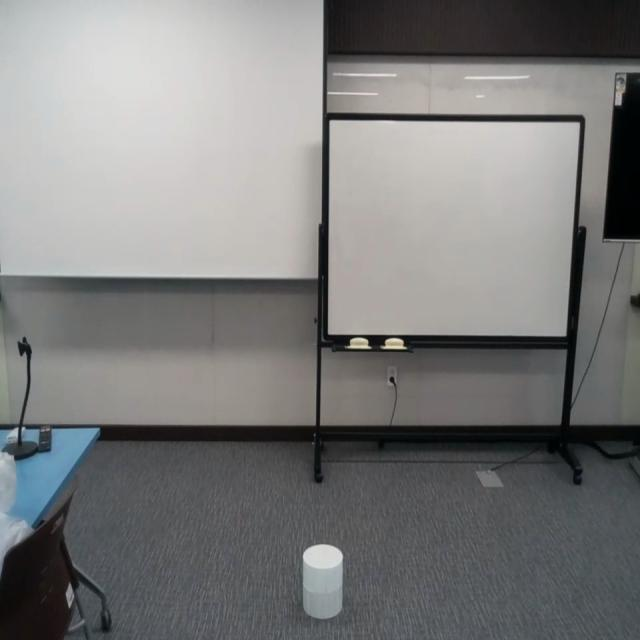cylinder: (302, 543, 344, 620)
